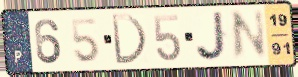5: (151, 13, 183, 63), (69, 17, 101, 64)
6: (33, 18, 64, 66)
D: (109, 13, 149, 66)
J: (194, 10, 230, 63)
N: (229, 7, 269, 63)
